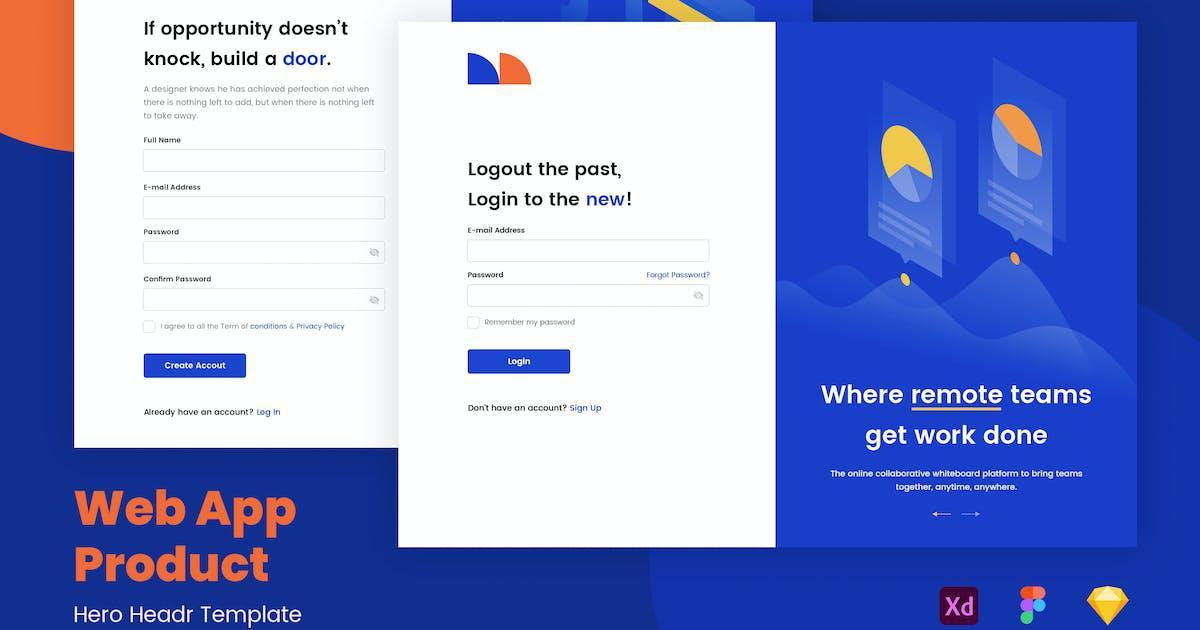button: (144, 354, 248, 379), (469, 351, 571, 375)
checkbox: (465, 315, 484, 331), (142, 318, 159, 334)
input: (467, 240, 710, 265), (144, 288, 386, 313), (142, 196, 385, 220), (143, 242, 387, 265), (467, 286, 711, 309), (144, 150, 387, 173)
label: (463, 156, 636, 213), (160, 321, 346, 335), (483, 318, 580, 329), (143, 181, 205, 195), (143, 275, 216, 286), (469, 228, 530, 238), (141, 227, 185, 240), (145, 134, 183, 148), (467, 271, 510, 281)
